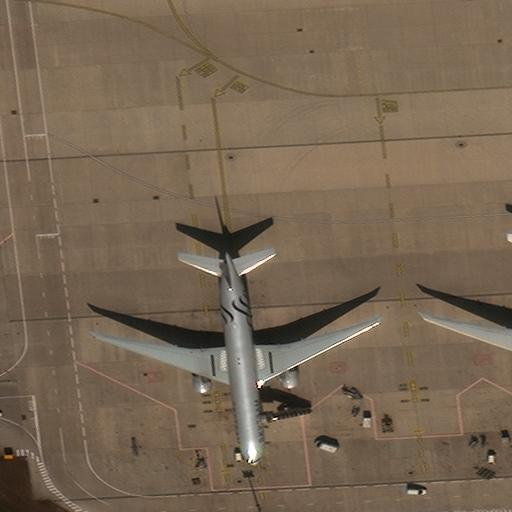Large Civil Transport: (94, 253, 381, 466), (420, 261, 511, 389)
